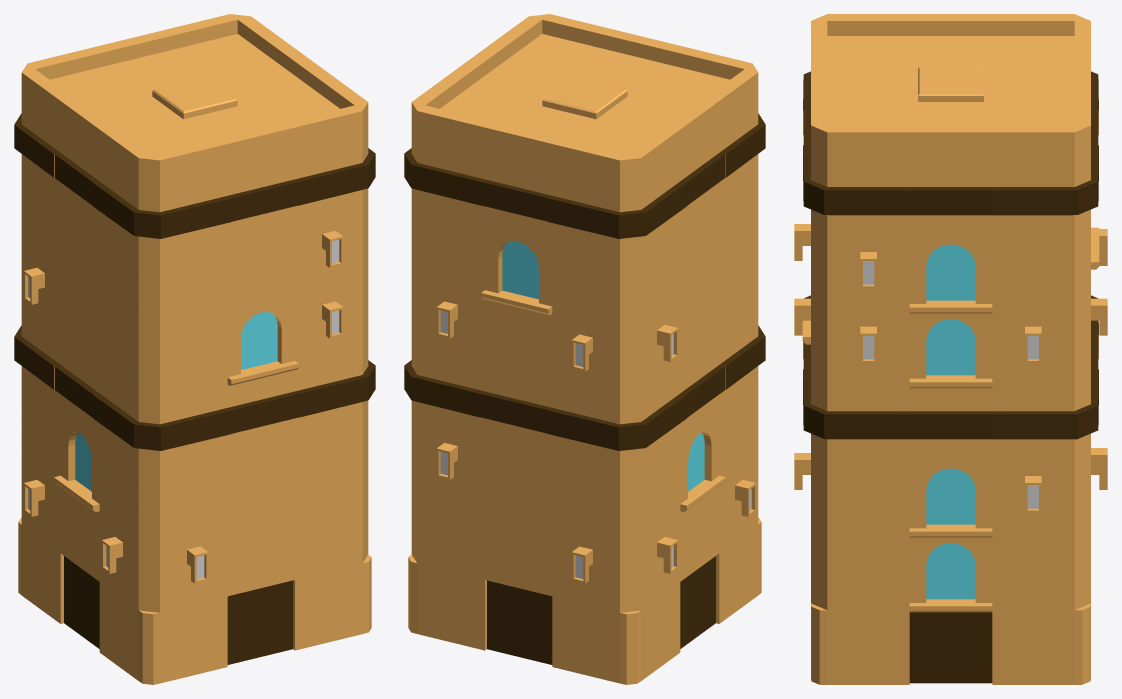
The model's file is house.002.fbx.
3 views of the same model, side by side, from view 1: azimuth 30°, elevation 25°; view 2: azimuth 150°, elevation 25°; view 3: azimuth 270°, elevation 25° (orthographic). The views are drawn at different scales.
Parts seen in each view (by area): view 1: House; view 2: House; view 3: House.
Part boxes in pixels (bbox=[...]): House: bbox=[14, 14, 375, 684]; House: bbox=[404, 14, 765, 684]; House: bbox=[794, 14, 1107, 684].
Size of the model in its own units: 380 by 740 by 380.
